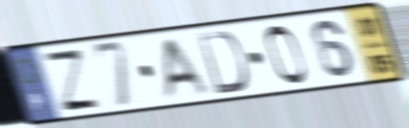0: (264, 22, 309, 87)
6: (310, 17, 357, 80)
7: (89, 39, 135, 111)
A: (160, 35, 212, 103)
D: (195, 29, 251, 97)
Z: (39, 48, 106, 114)
